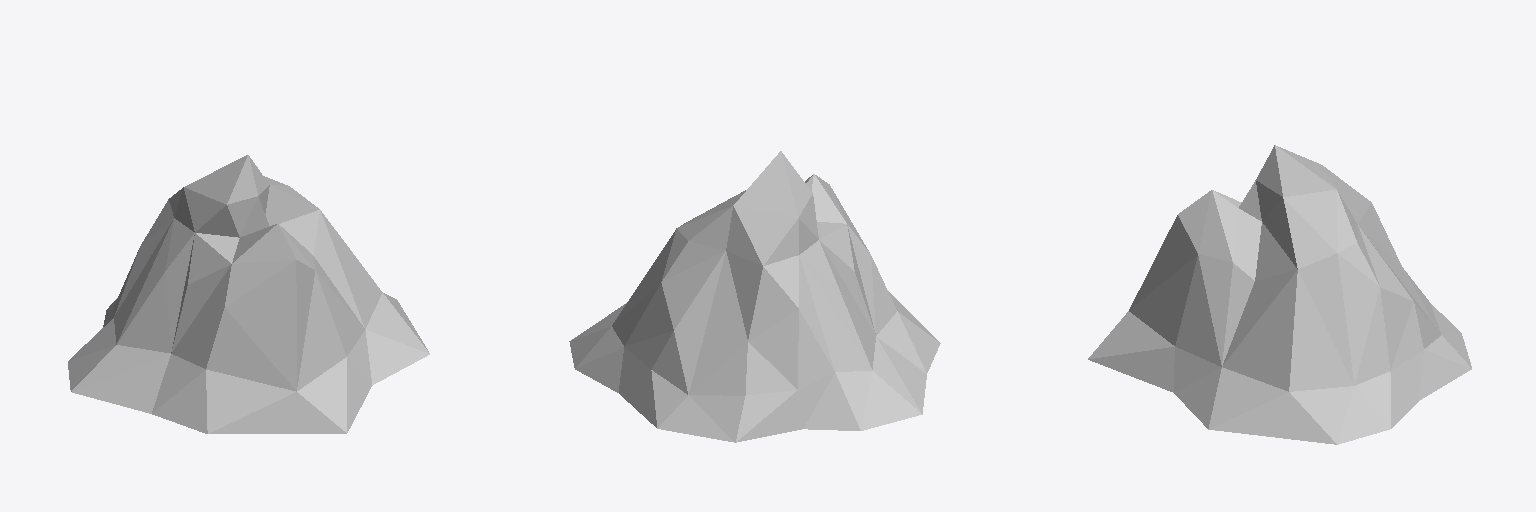
Rendered from Low Poly Terrain 2.obj.
The picture shows the model from 3 angles: view 1: azimuth 30°, elevation 25°; view 2: azimuth 150°, elevation 25°; view 3: azimuth 270°, elevation 25°; orthographic projection.
Parts seen in each view (by area): view 1: Low_Poly_Terrain_2; view 2: Low_Poly_Terrain_2; view 3: Low_Poly_Terrain_2.
Boxes of the visible parts, <box> form: Low_Poly_Terrain_2: <box>68,155,429,433</box>; Low_Poly_Terrain_2: <box>569,151,940,442</box>; Low_Poly_Terrain_2: <box>1088,145,1471,444</box>.
Bounding box in the file's own units: 82.98 × 49.47 × 81.42.